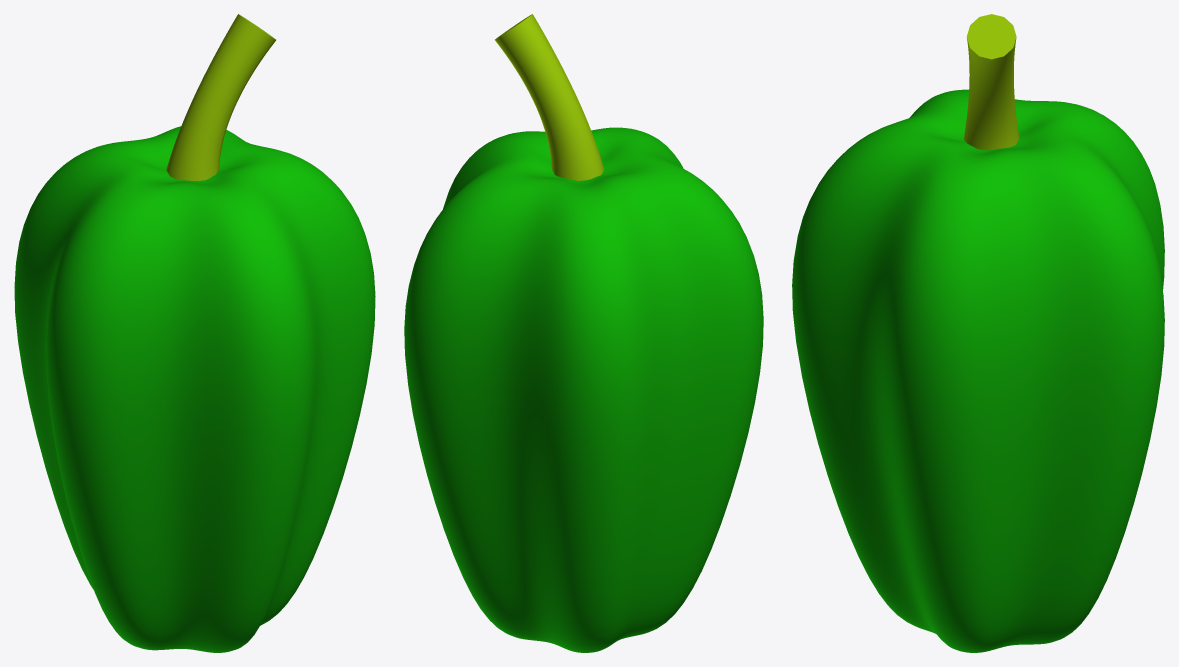
File: piman.glb
3 renders of one model, left to right at view 1: azimuth 30°, elevation 25°; view 2: azimuth 150°, elevation 25°; view 3: azimuth 270°, elevation 25°, orthographic. The views are drawn at different scales.
Parts seen in each view (by area): view 1: 円, NURBSパス; view 2: 円, NURBSパス; view 3: 円, NURBSパス.
Part boxes in pixels (x1=…): 円: x1=14, y1=126, x2=375, y2=652; NURBSパス: x1=166, y1=14, x2=275, y2=181; 円: x1=404, y1=127, x2=763, y2=652; NURBSパス: x1=495, y1=14, x2=604, y2=180; 円: x1=792, y1=89, x2=1164, y2=652; NURBSパス: x1=964, y1=14, x2=1019, y2=150.
Bounding box in the file's own units: 1.16 × 2.11 × 1.12.
